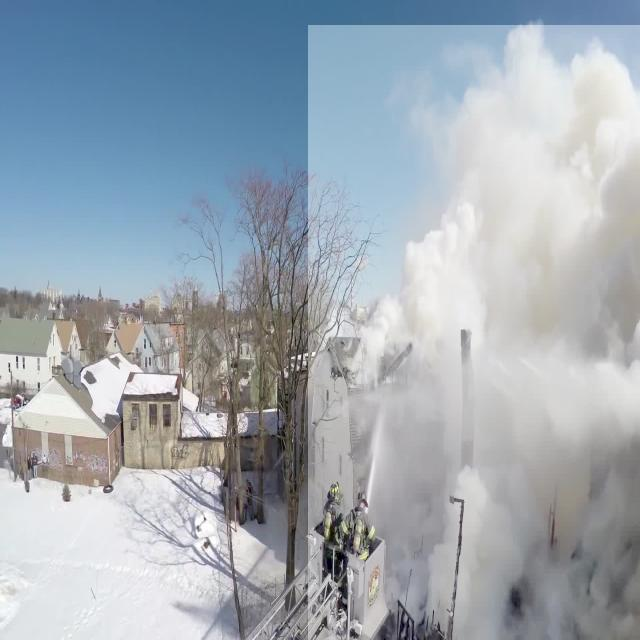Smoke: (308, 25, 640, 640)
